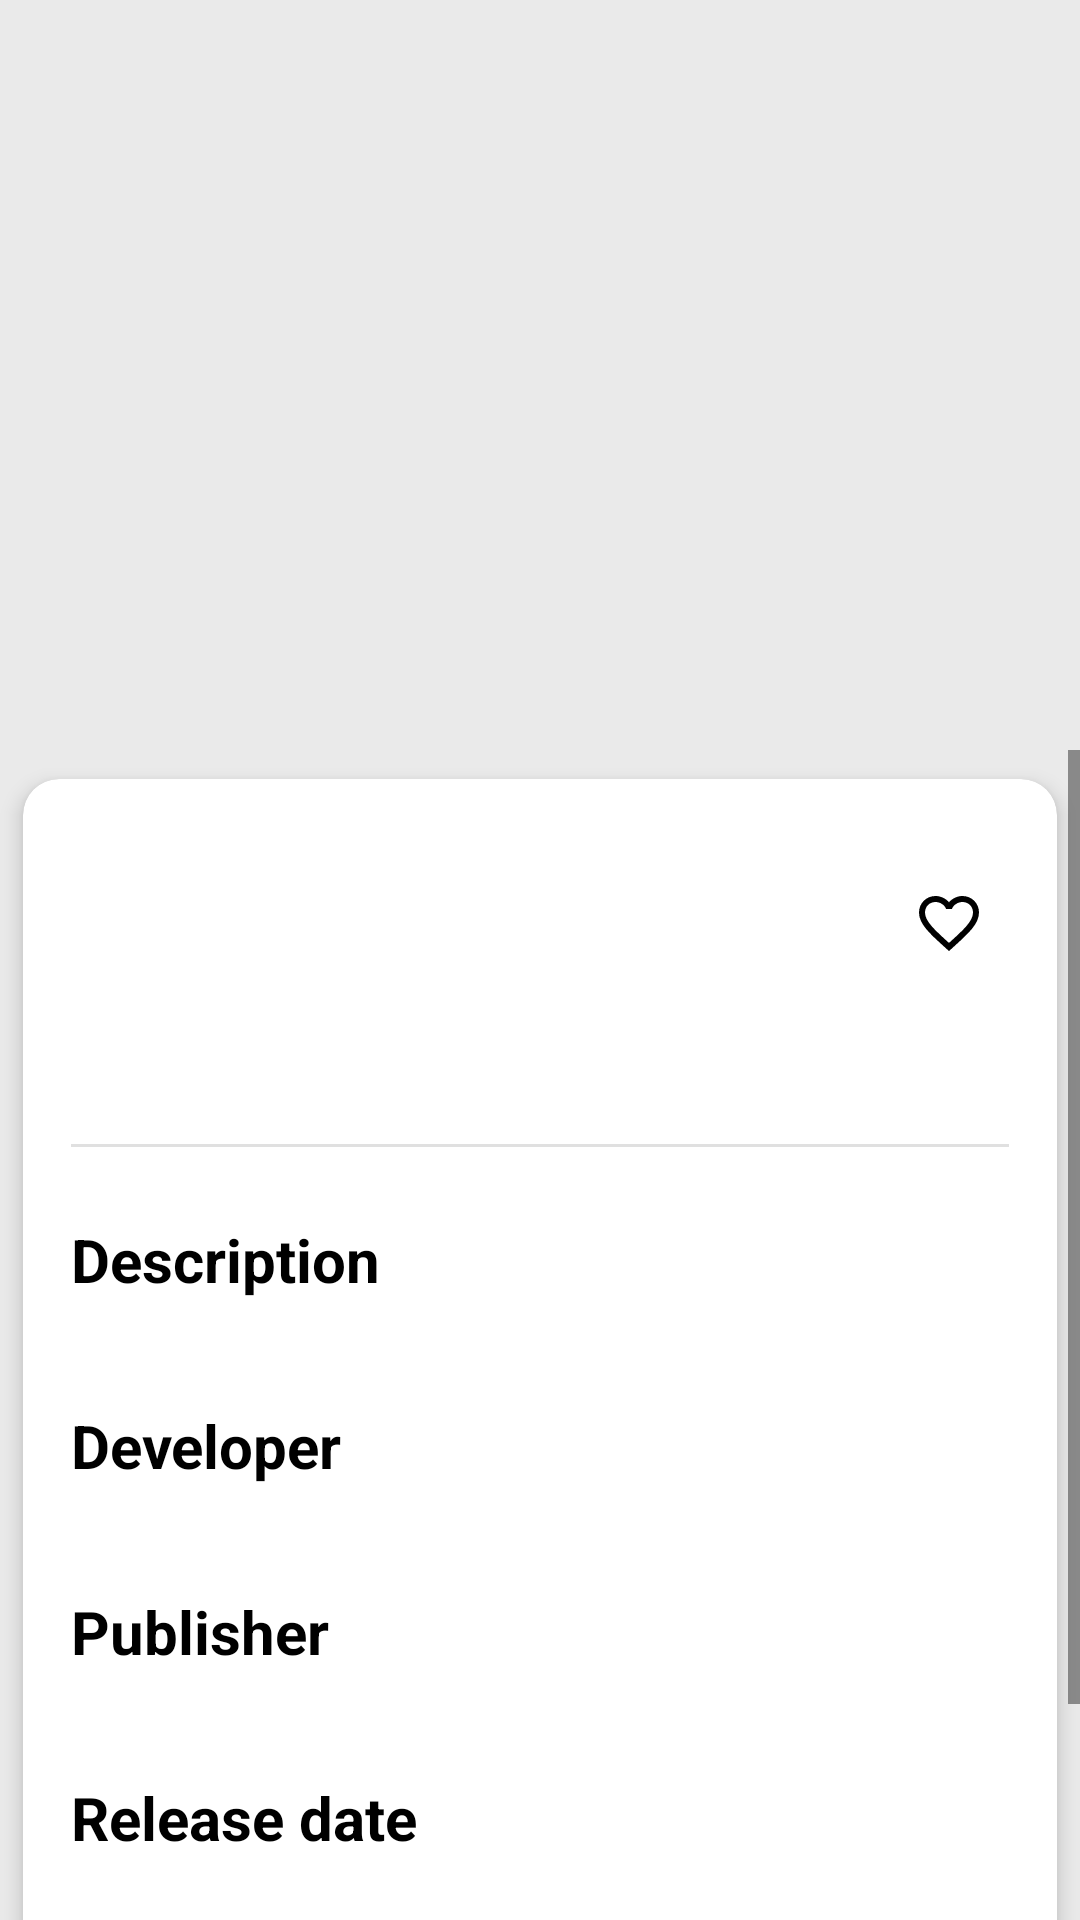

Screen size 1080 × 1920. Icon name, then its box in pixels as [x1=x1, y1=y1, x2=x2, y2=y2]:
favorite border: [x1=919, y1=896, x2=979, y2=951]
